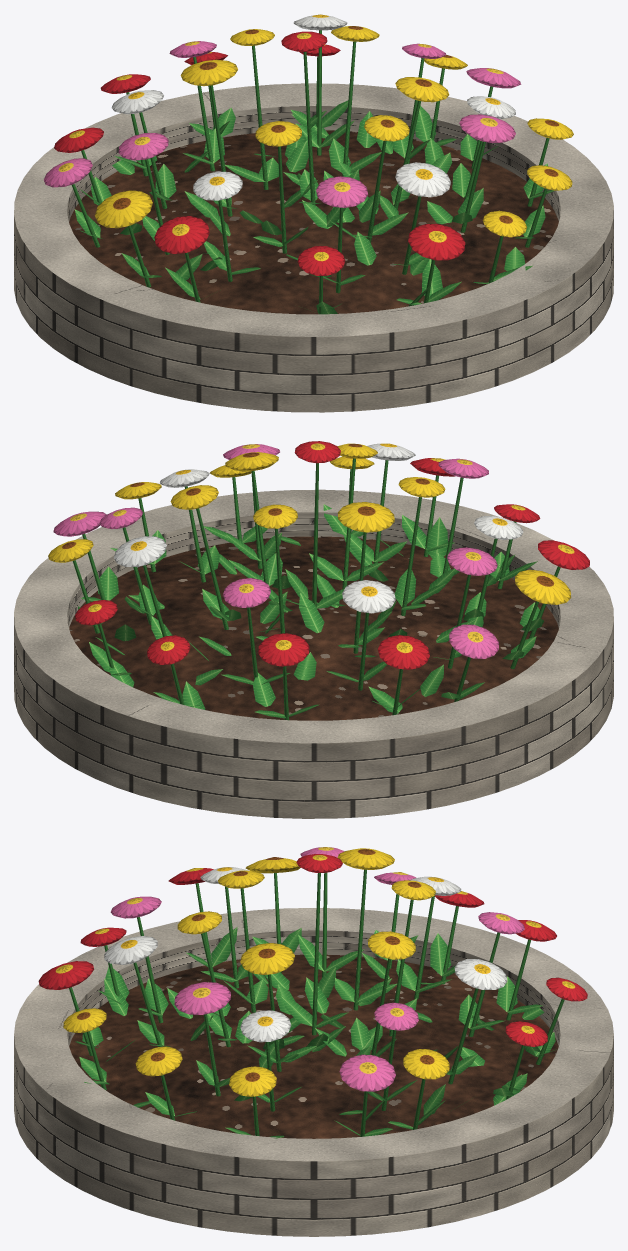
Rendered from flower_bed.obj.
3 renders of one model, top to bottom at view 1: azimuth 30°, elevation 25°; view 2: azimuth 150°, elevation 25°; view 3: azimuth 270°, elevation 25°, orthographic.
Parts seen in each view (by area): view 1: bed, leaf, flower_18, flower_21, flower_20, flower_8, flower_9, flower_7, flower_10, flower_4, flower_19, flower_11 (+20 smaller); view 2: bed, leaf, flower_21, flower_23, flower_12, flower_4, flower_24, flower_22, flower_14, flower_13, flower_11, flower_20 (+19 smaller); view 3: bed, leaf, flower_28, flower_7, flower_1, flower_16, flower_14, flower_29, flower_27, flower_18, flower_8, flower_30 (+18 smaller).
Part boxes in pixels (<box>): bed: <box>14,83,613,412</box>; leaf: <box>74,100,554,314</box>; flower_18: <box>408,224,465,260</box>; flower_21: <box>94,190,152,228</box>; flower_20: <box>154,216,209,253</box>; flower_8: <box>395,162,450,197</box>; flower_9: <box>316,176,367,207</box>; flower_7: <box>459,114,515,143</box>; flower_10: <box>193,171,242,200</box>; flower_4: <box>180,59,237,86</box>; flower_19: <box>297,246,345,275</box>; flower_11: <box>118,133,168,160</box>; bed: <box>14,489,613,818</box>; leaf: <box>78,504,543,718</box>; flower_21: <box>515,569,571,604</box>; flower_23: <box>378,635,429,669</box>; flower_12: <box>342,580,395,613</box>; flower_4: <box>337,502,394,532</box>; flower_24: <box>258,633,309,666</box>; flower_22: <box>449,624,498,658</box>; flower_14: <box>114,536,166,566</box>; flower_13: <box>223,578,270,607</box>; flower_11: <box>447,547,497,575</box>; flower_20: <box>538,540,589,569</box>; bed: <box>14,908,613,1236</box>; leaf: <box>75,927,556,1138</box>; flower_28: <box>339,1054,395,1091</box>; flower_7: <box>174,982,230,1014</box>; flower_1: <box>240,943,294,974</box>; flower_16: <box>240,1010,291,1042</box>; flower_14: <box>454,959,507,989</box>; flower_29: <box>229,1066,276,1096</box>; flower_27: <box>403,1049,449,1079</box>; flower_18: <box>38,961,94,989</box>; flower_8: <box>104,936,157,964</box>; flower_30: <box>135,1046,182,1076</box>.
Bounding box in the file's own units: 1.8 × 0.8292 × 1.8.
Materials: 1 (1 with a texture image).
